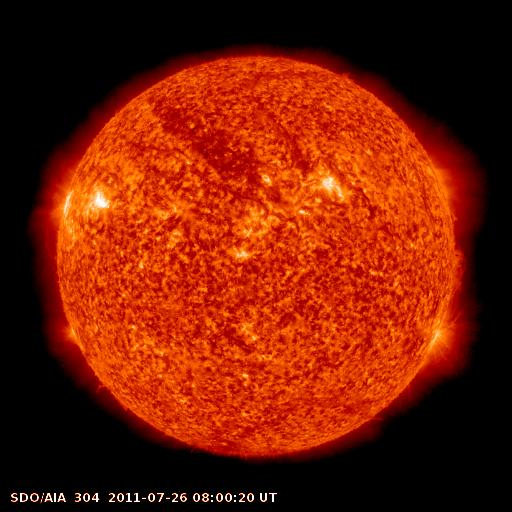prominence: (437, 243, 474, 298)
